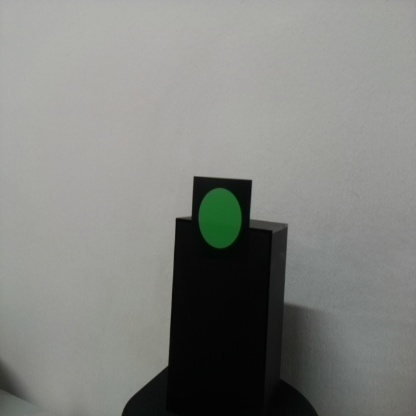id_5: (192, 177, 251, 262)
